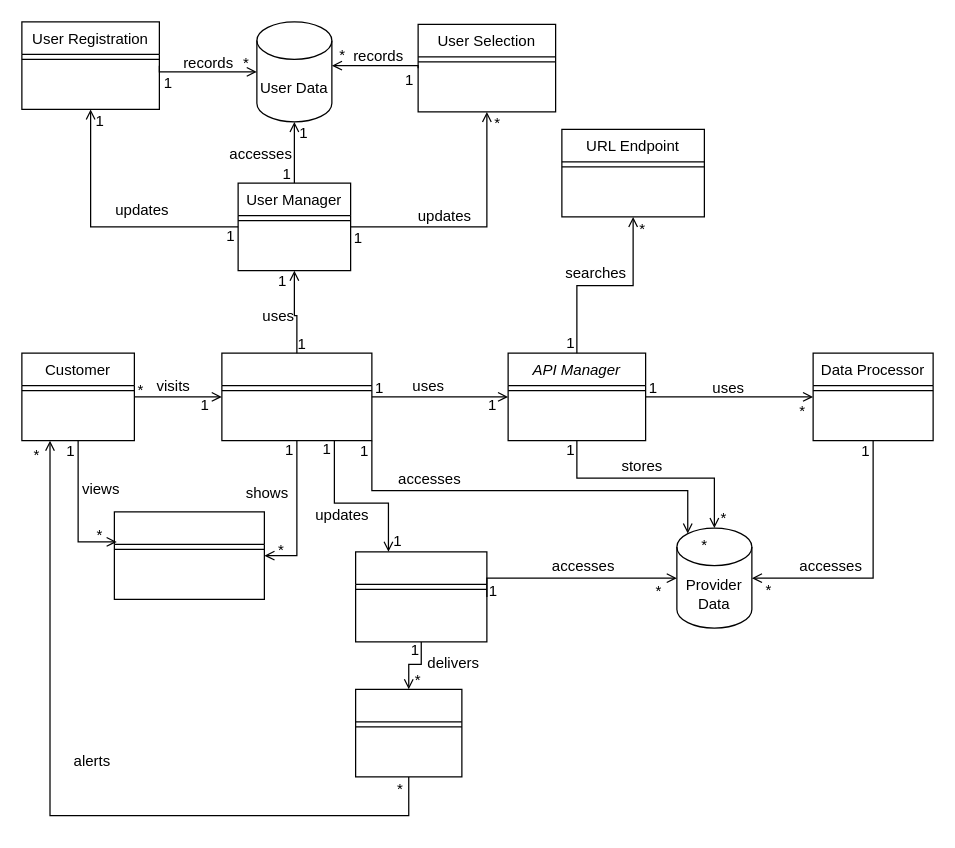
Image size: 955x848. Some labels were removed from this diagram. Here are the shapes that lost their labels. From the top down, the box of each, then its label:
(221, 352, 372, 441): Clean Energy PA Site
(113, 511, 264, 599): Display
(354, 551, 487, 642): Email Service
(354, 688, 462, 777): Notification
